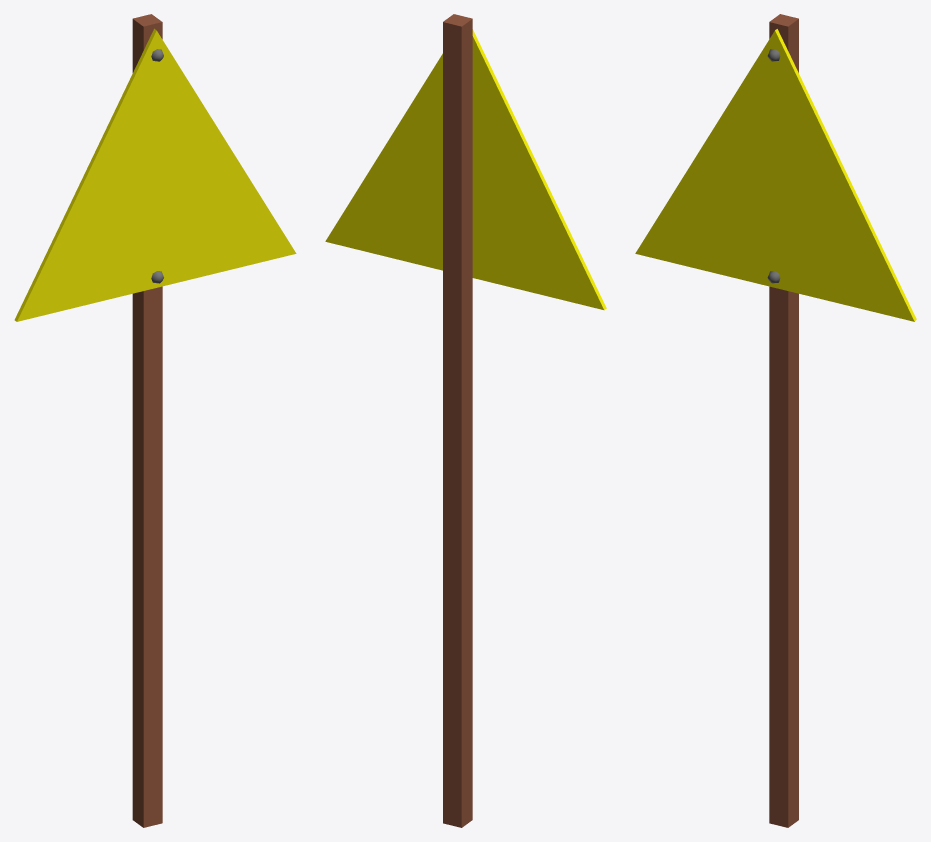
The model's file is sign_tri.fbx.
3 renders of one model, left to right at view 1: azimuth 30°, elevation 25°; view 2: azimuth 150°, elevation 25°; view 3: azimuth 330°, elevation 25°, orthographic.
Visible parts, largest first — view 1: sign, pole; view 2: sign, pole; view 3: sign, pole.
Part boxes in pixels (left/top/right/bottom): sign: left=14, top=28, right=296, bottom=321; pole: left=132, top=14, right=162, bottom=827; sign: left=325, top=29, right=606, bottom=310; pole: left=443, top=14, right=472, bottom=827; sign: left=635, top=29, right=916, bottom=321; pole: left=769, top=14, right=798, bottom=827.
Size of the model in its own units: 27.66 by 75.76 by 3.19.
